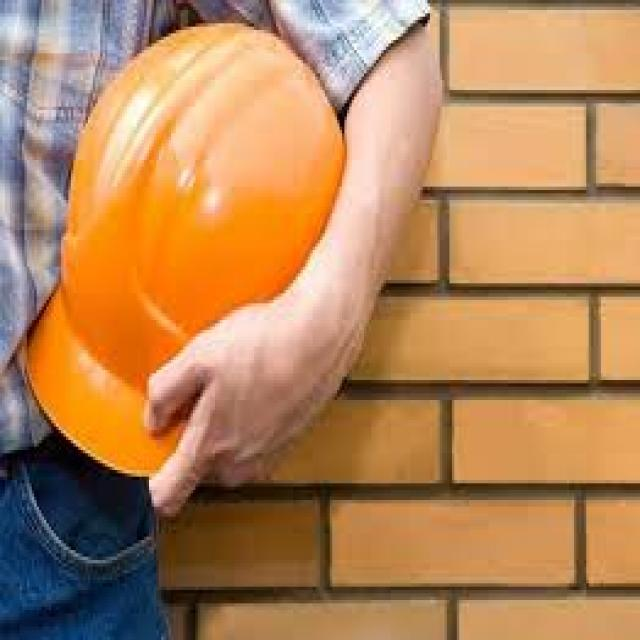Safety-Helmet: (5, 10, 364, 487)
